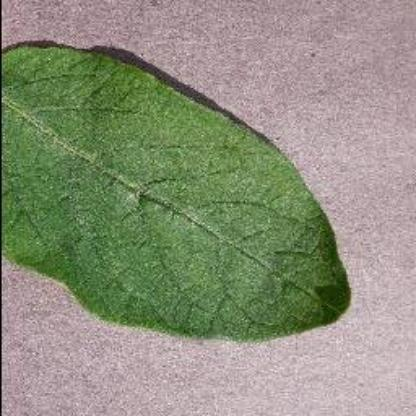Healthy-plant: (0, 15, 366, 389)
